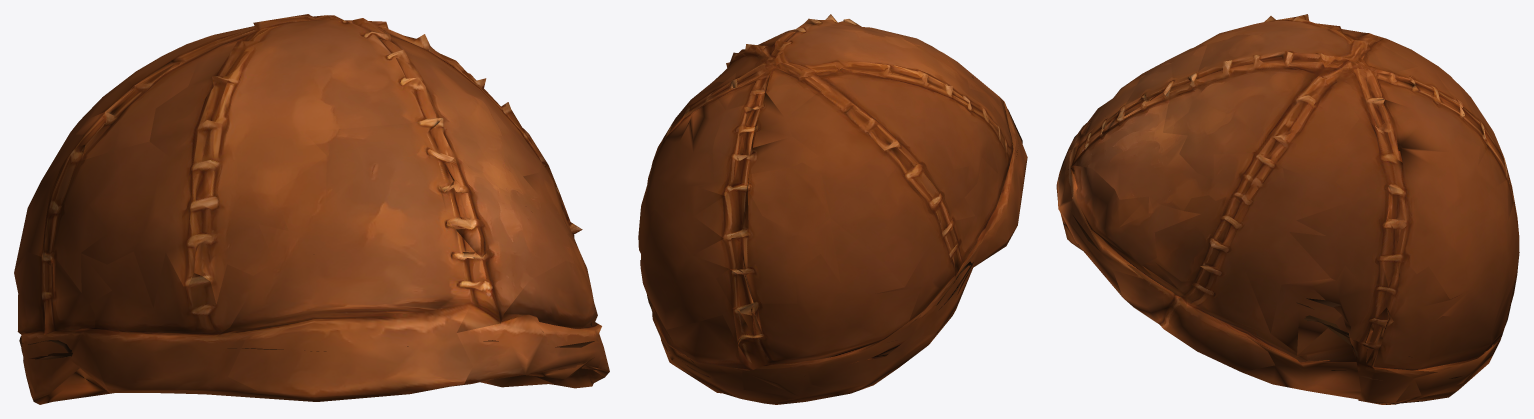
File: cap.glb
The picture shows the model from 3 angles, left to right: view 1: azimuth 30°, elevation 25°; view 2: azimuth 150°, elevation 25°; view 3: azimuth 270°, elevation 25°; orthographic projection. The views are drawn at different scales.
Parts seen in each view (by area): view 1: cap; view 2: cap; view 3: cap.
Part boxes in pixels (x1,y1,x2,y2): cap: (14,14,609,404); cap: (638,14,1027,404); cap: (1056,14,1519,404).
Bounding box in the file's own units: 0.1908 × 0.1697 × 0.2249.
1 material, 1 textured.
